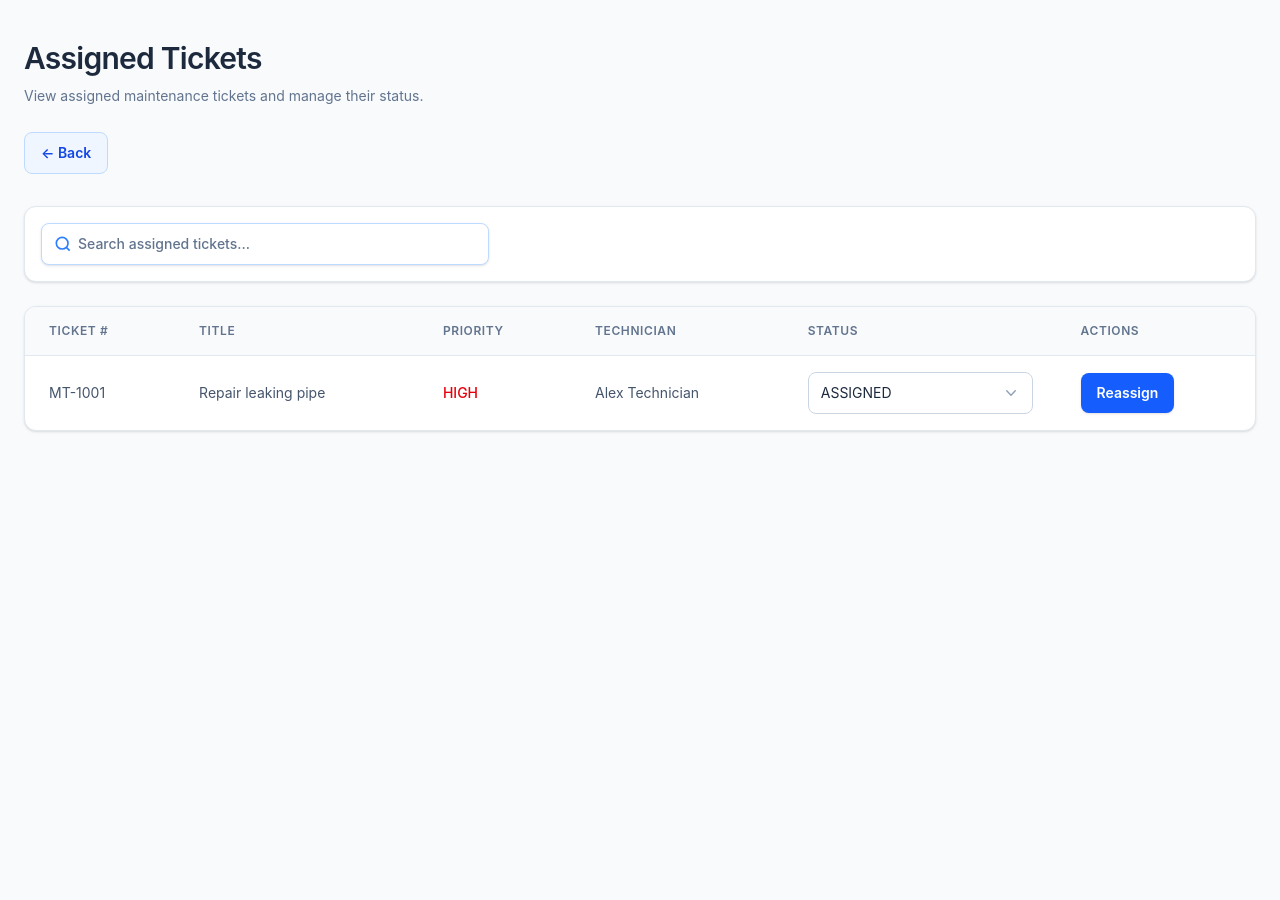
Test case: AssignedTickets page › keeps the existing technician and modal open when reassignment fails
The image size is (1280, 900).
Click the button "Reassign". click: point(1128, 393)
box: left=1081, top=373, right=1174, bottom=413
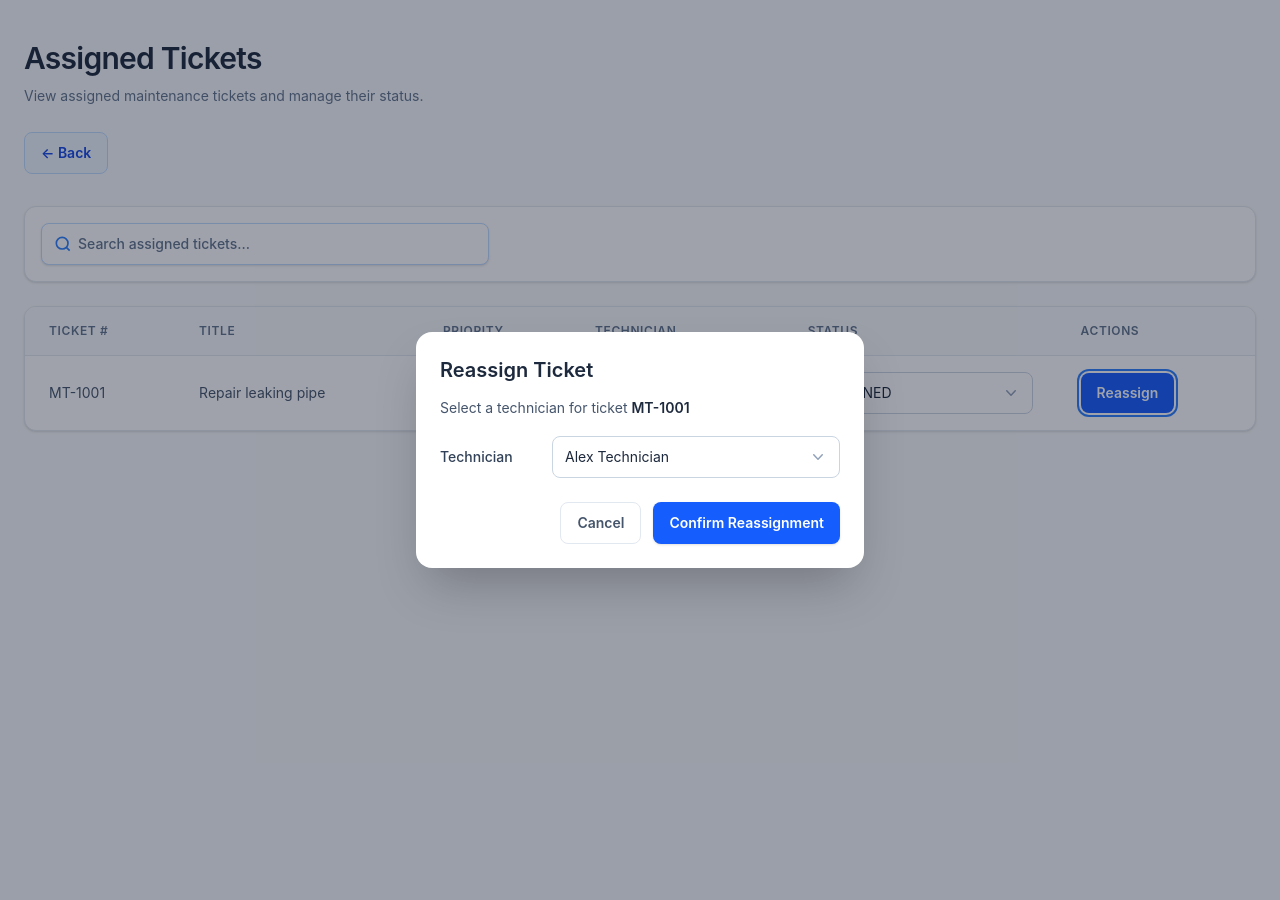
Select "Sam Technician" in the dropdown labelled "Technician". click: point(696, 457)
box: left=552, top=436, right=840, bottom=478
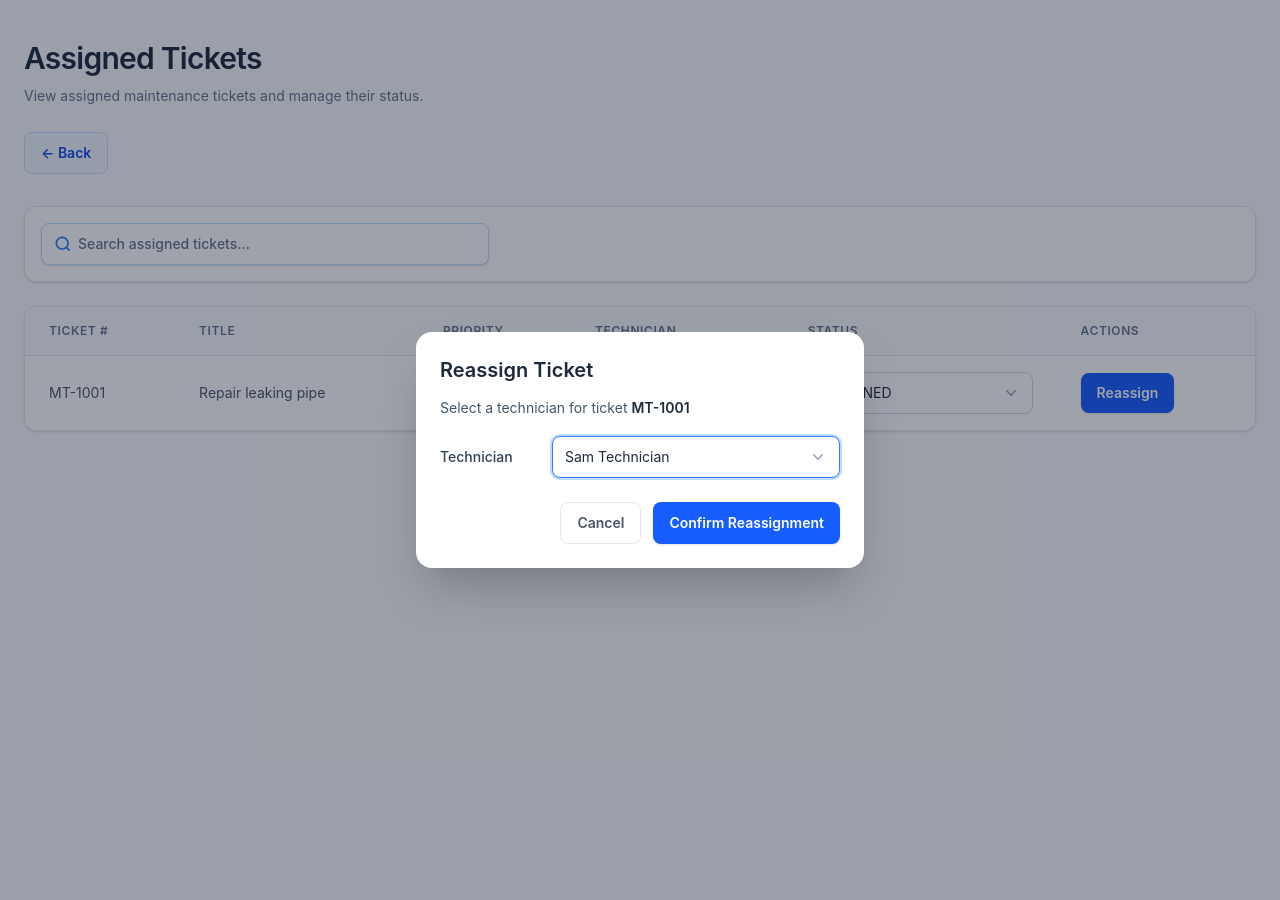
Click the button "Confirm Reassignment". click: point(747, 523)
box: left=653, top=502, right=840, bottom=544
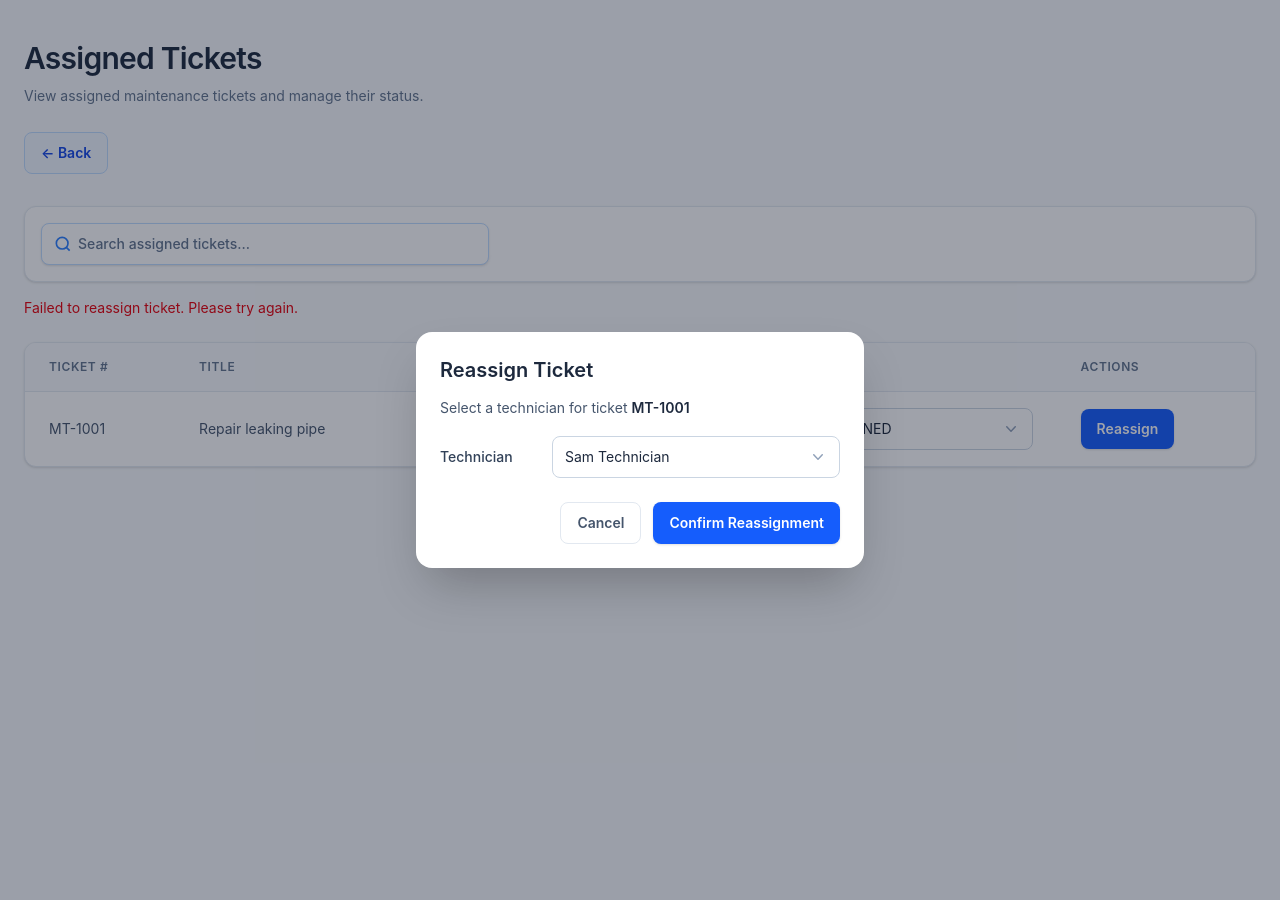
Expected: the text "Alex Technician" is shown, left=571, top=392, right=784, bottom=466
Now the heading "Reassign Ticket" is shown, box left=440, top=358, right=593, bottom=382
Now the text "Failed to reassign ticket. Please try again." is shown, box left=24, top=299, right=298, bottom=316
